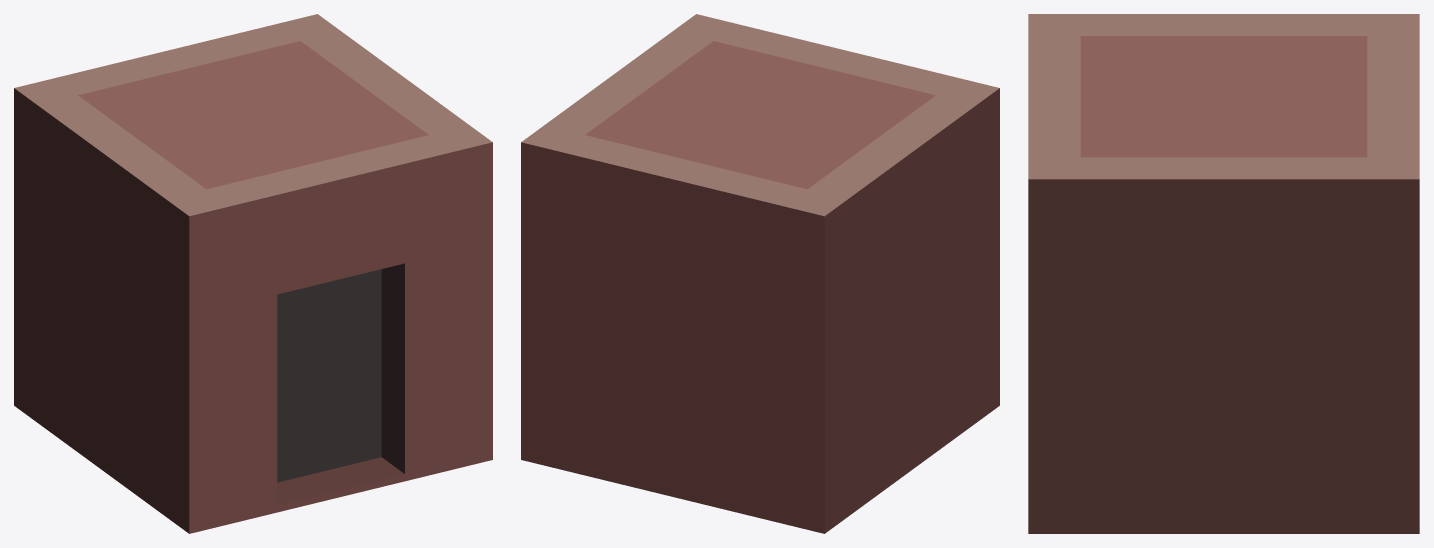
The model's file is TB_D_Bd_TopDoor_Red.FBX.
3 views of the same model, side by side, from view 1: azimuth 30°, elevation 25°; view 2: azimuth 150°, elevation 25°; view 3: azimuth 270°, elevation 25° (orthographic). The views are drawn at different scales.
Parts seen in each view (by area): view 1: TB_D_Bd_TopDoor_Red; view 2: TB_D_Bd_TopDoor_Red; view 3: TB_D_Bd_TopDoor_Red.
Boxes of the visible parts, bbox=[...] form: TB_D_Bd_TopDoor_Red: bbox=[14, 14, 492, 533]; TB_D_Bd_TopDoor_Red: bbox=[521, 14, 999, 533]; TB_D_Bd_TopDoor_Red: bbox=[1028, 14, 1419, 533].
Size of the model in its own units: 1.5 by 1.5 by 1.5.
